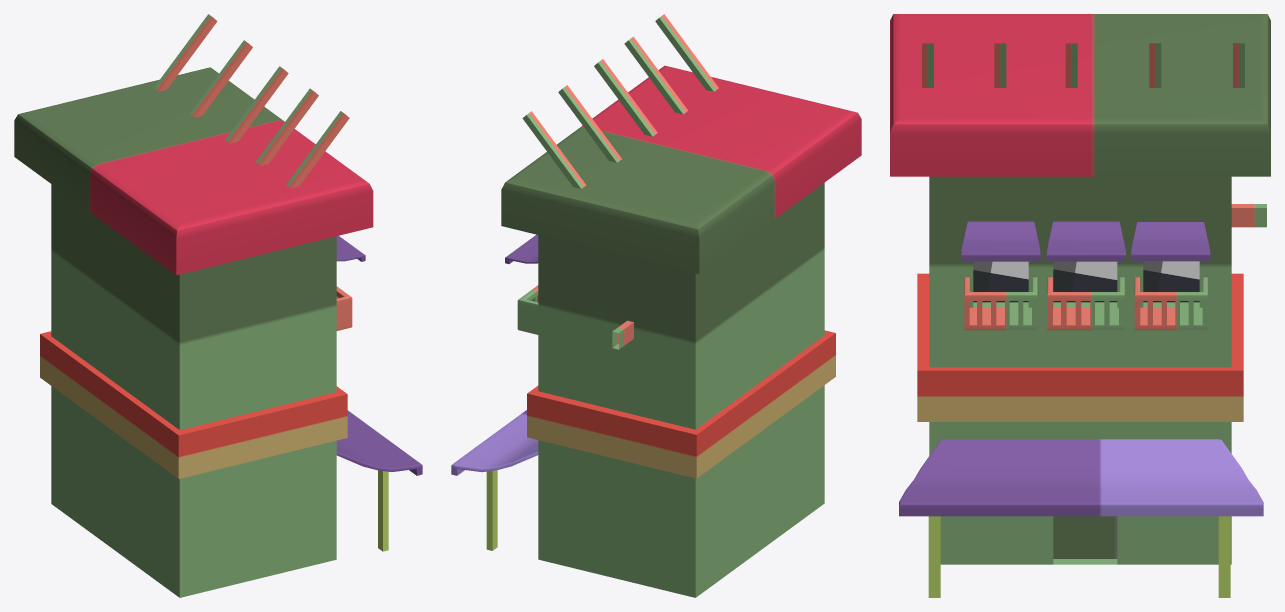
File: BuildingShort_05A.fbx
3 views of the same model, side by side, from view 1: azimuth 30°, elevation 25°; view 2: azimuth 150°, elevation 25°; view 3: azimuth 270°, elevation 25° (orthographic). The views are drawn at different scales.
Visible parts, largest first — view 1: polySurface1043; view 2: polySurface1043; view 3: polySurface1043.
Part boxes in pixels (<box>): polySurface1043: <box>14,14,422,597</box>; polySurface1043: <box>451,14,861,597</box>; polySurface1043: <box>890,14,1270,597</box>.
Bounding box in the file's own units: 4.81 × 8.24 × 5.38.
